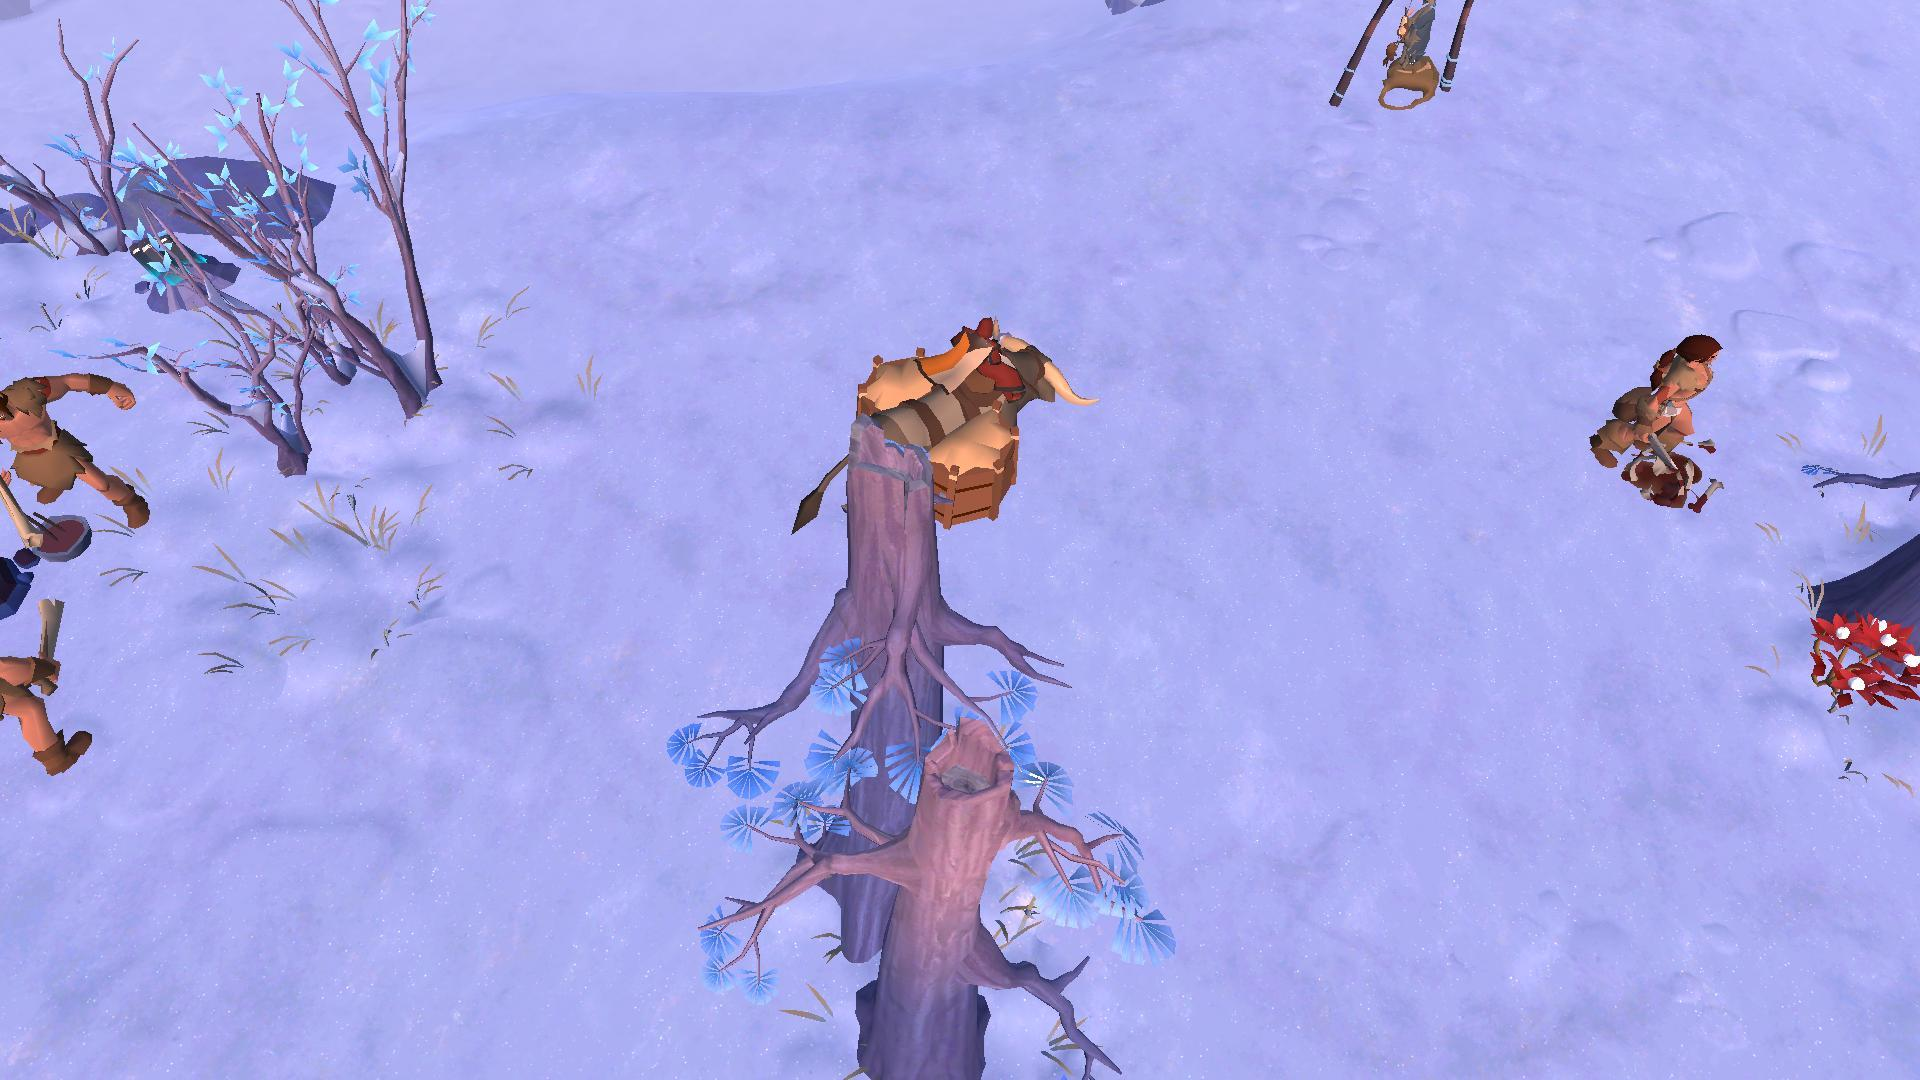enemy_factionKeeper: (0, 364, 167, 537), (0, 592, 113, 777), (1582, 331, 1725, 472)
fiber_t5: (1805, 616, 1920, 717)
ore_t4: (127, 231, 198, 286)
